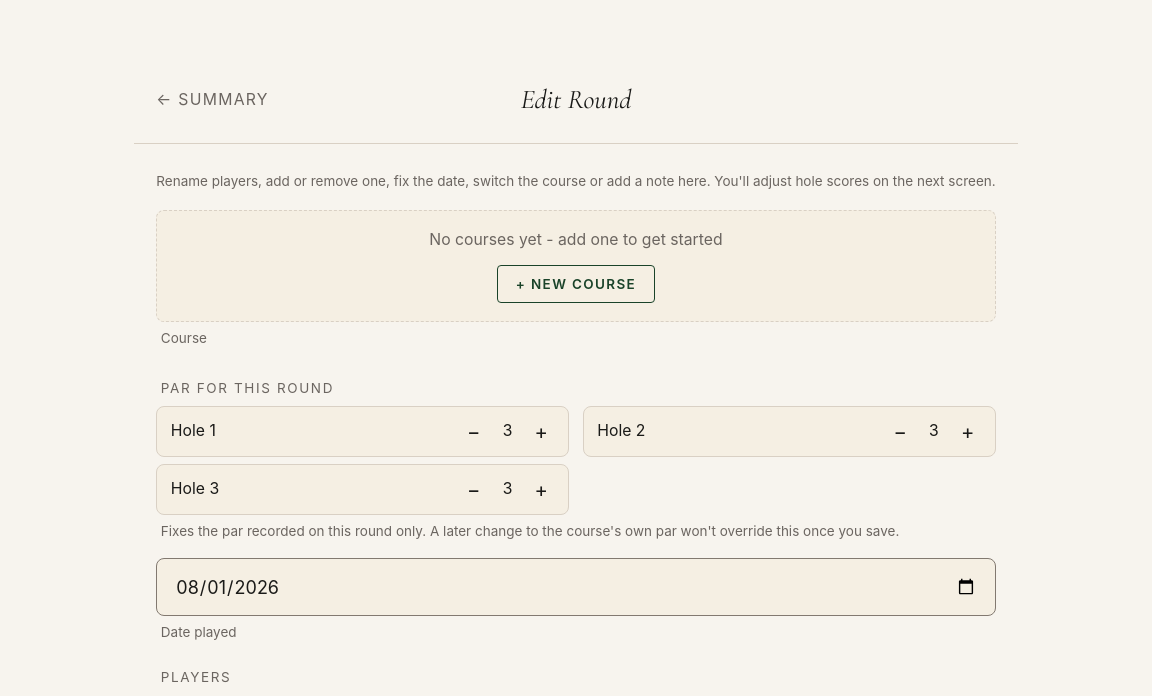
Scenario: Setup - editing a round can now change its course/hole count (#56 reversed) › a 36-hole round can now get a new course created mid-edit (the old 36-hole restriction is gone)
Expected: the text "No courses yet - add one to get started" is shown, [429,230,723,249]
Click the button "+ New course": (576, 284) [497,265,655,303]
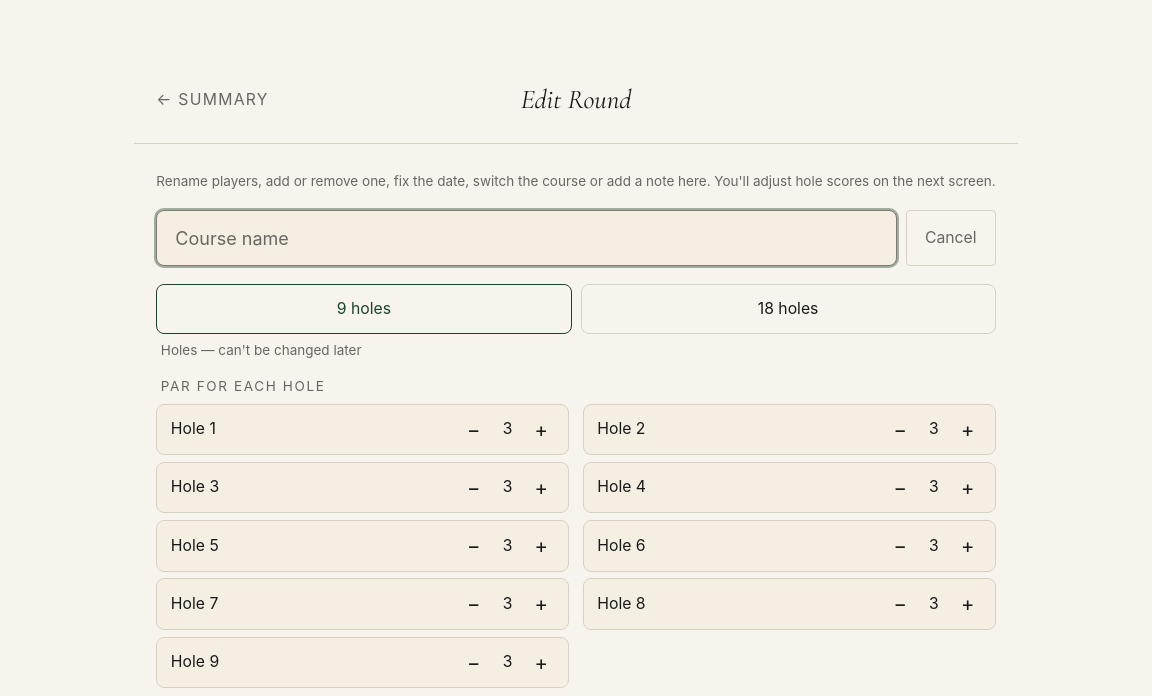
Expected: the element named "Number of holes on this course" is shown, [156,284,996,334]
